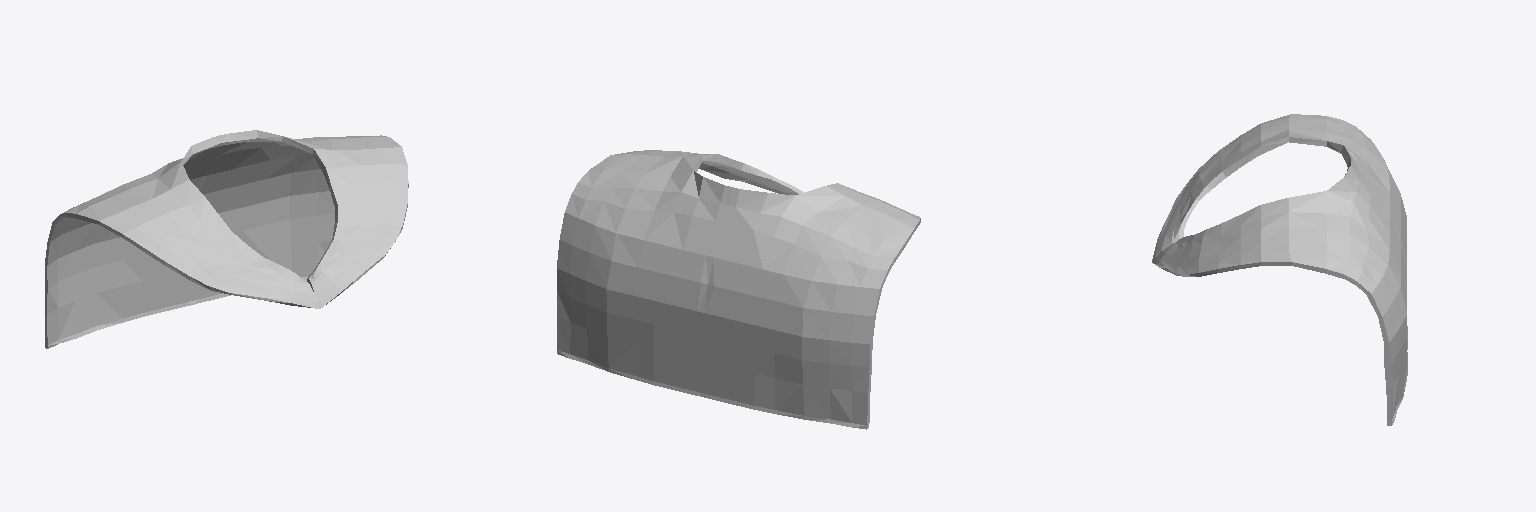
Rendered from collar.obj.
The picture shows the model from 3 angles: view 1: azimuth 30°, elevation 25°; view 2: azimuth 150°, elevation 25°; view 3: azimuth 270°, elevation 25°; orthographic projection.
Bounding box in the file's own units: 26.12 × 15 × 18.29.